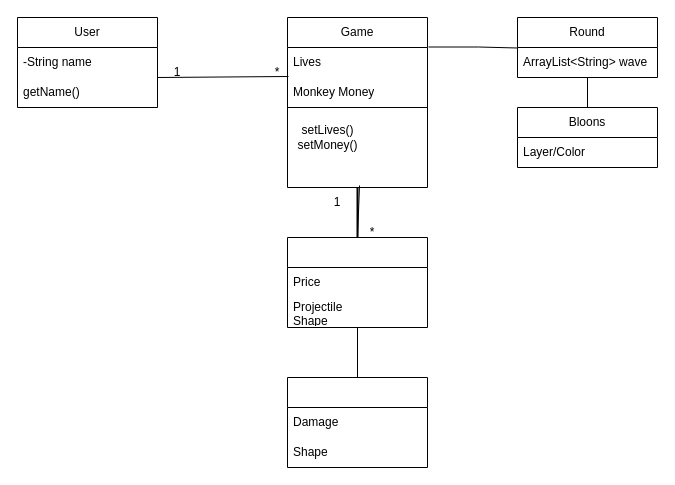
Some shapes in this 675 by 485 pixel diagram are drawn without their labels. The shapes that lost their labels are listed below. From the top down, each one's box as (x1, y1, x2, y2) in pixels, then its label:
(286, 236, 428, 328): Monkey
(286, 376, 428, 468): Projectile
